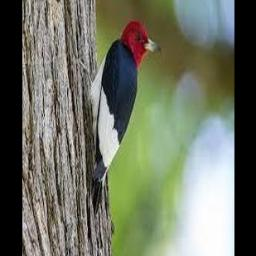Woodpecker: (79, 19, 162, 214)
